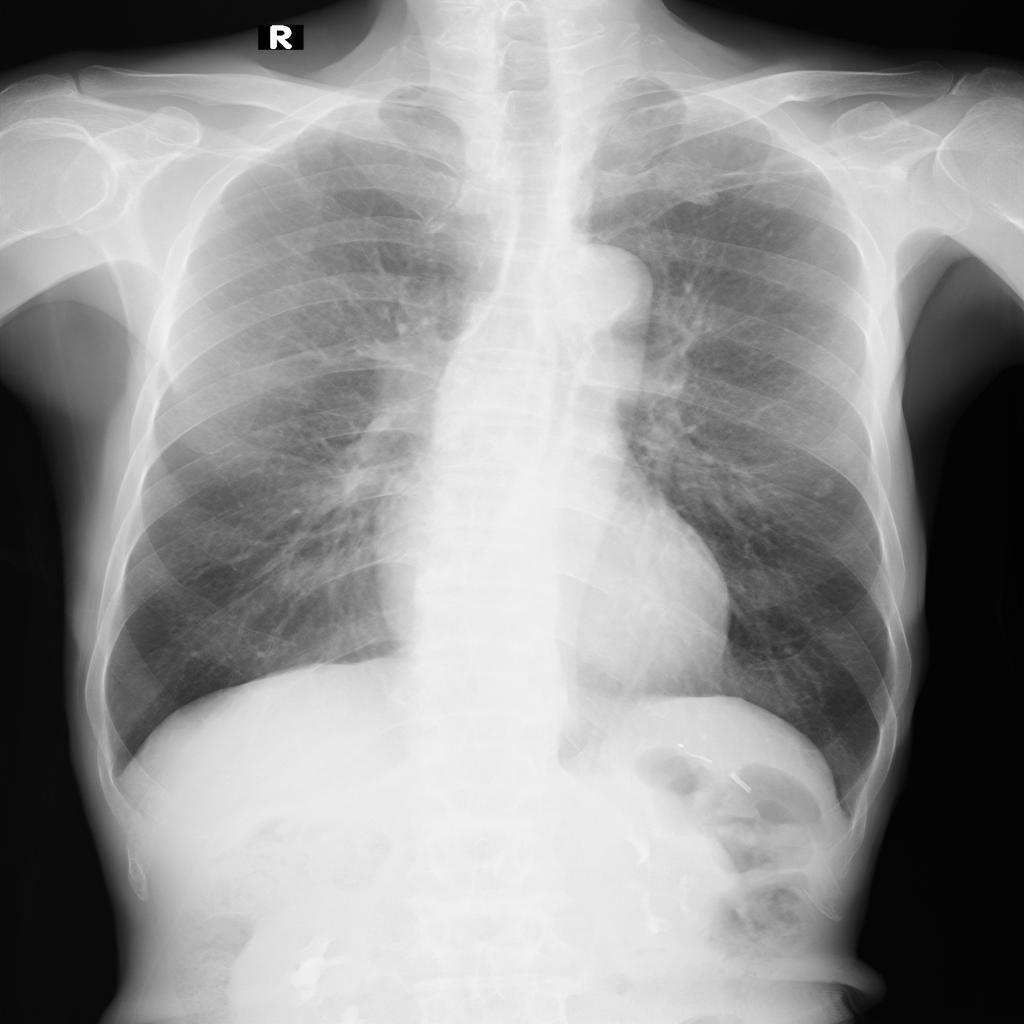Nodule: (814, 477, 834, 502)
